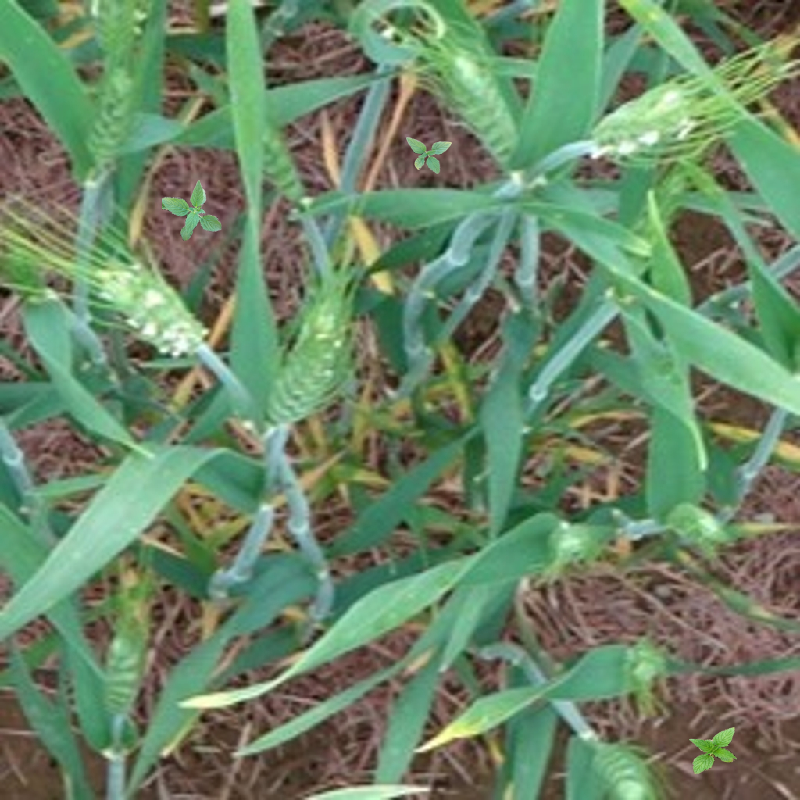spikelet: (84, 244, 217, 365), (256, 297, 357, 437), (427, 43, 526, 170), (581, 75, 704, 165), (73, 60, 145, 186), (609, 179, 684, 297), (232, 98, 304, 204), (584, 732, 664, 800), (658, 494, 733, 559), (105, 622, 145, 720), (616, 633, 676, 691), (549, 513, 599, 569)
weed: (162, 180, 222, 241), (689, 727, 737, 774), (406, 137, 452, 174)
